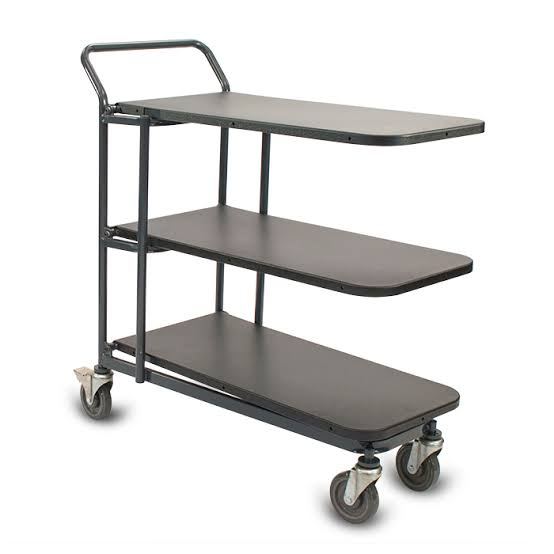Carts: (73, 39, 487, 526)
